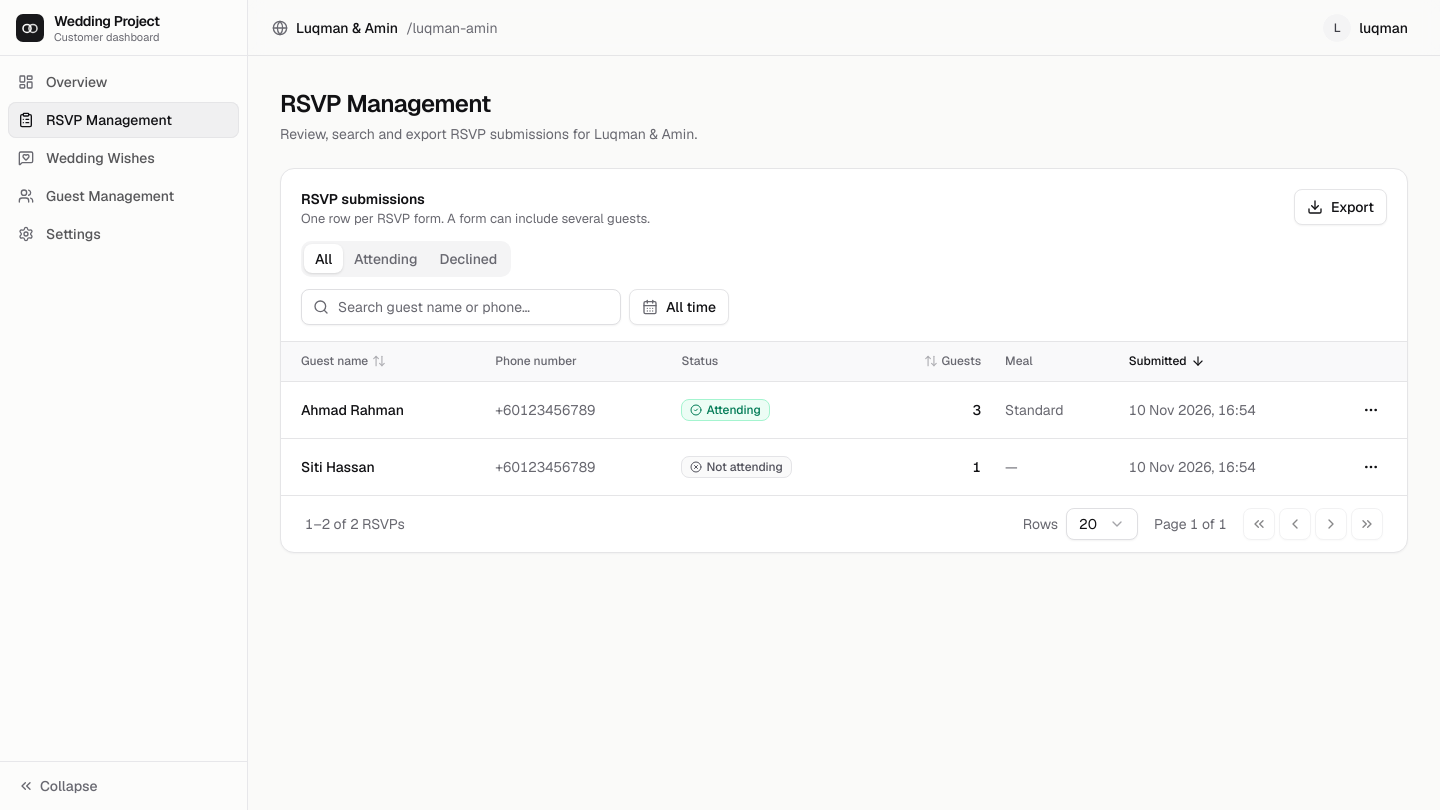
RSVP management › sorts by column and disables non-date sorts while a date range is active
Click the button "Guest name".
click(344, 361)  # box x1=295 y1=349 x2=392 y2=373
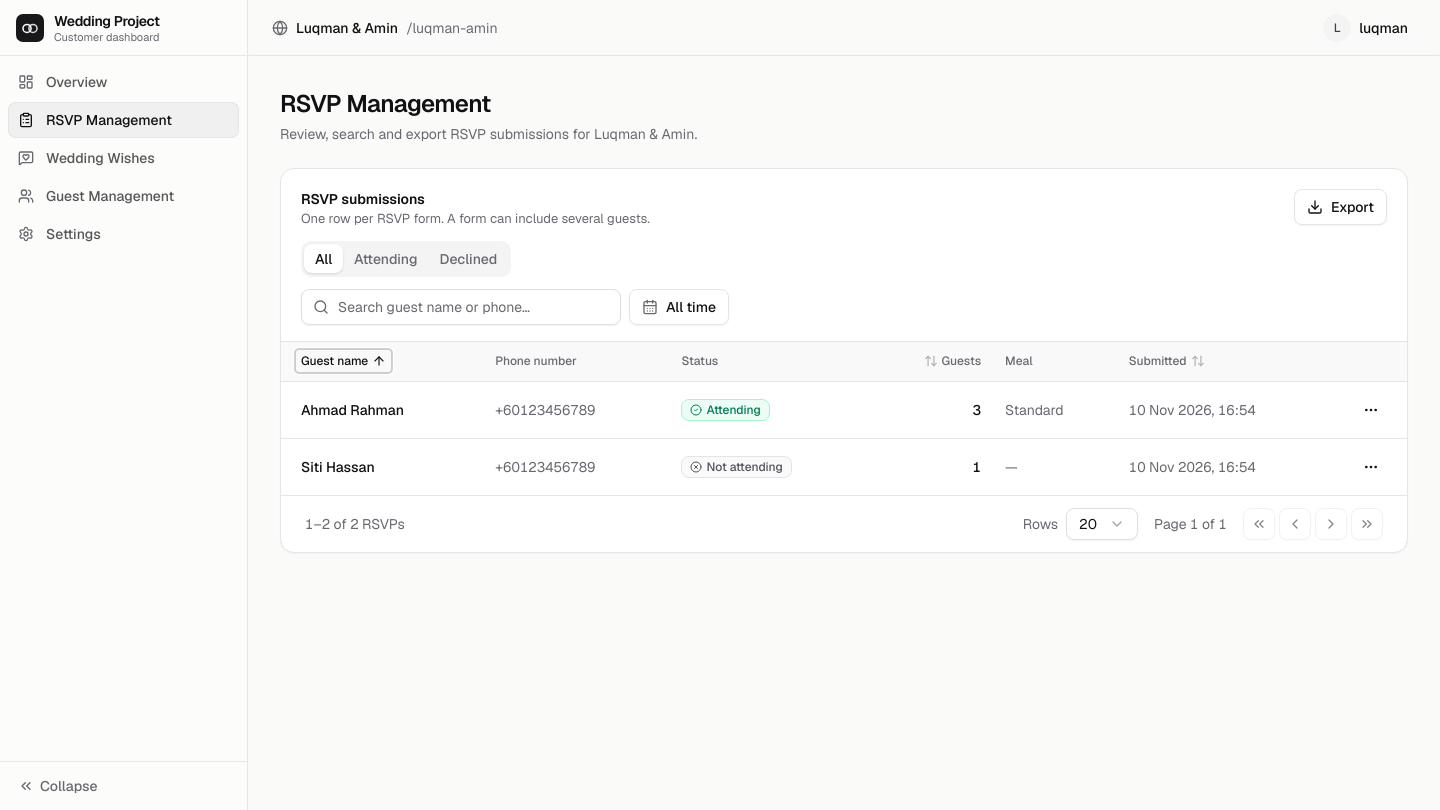
Click the button "All time".
click(679, 306)  # box x1=629 y1=288 x2=729 y2=324
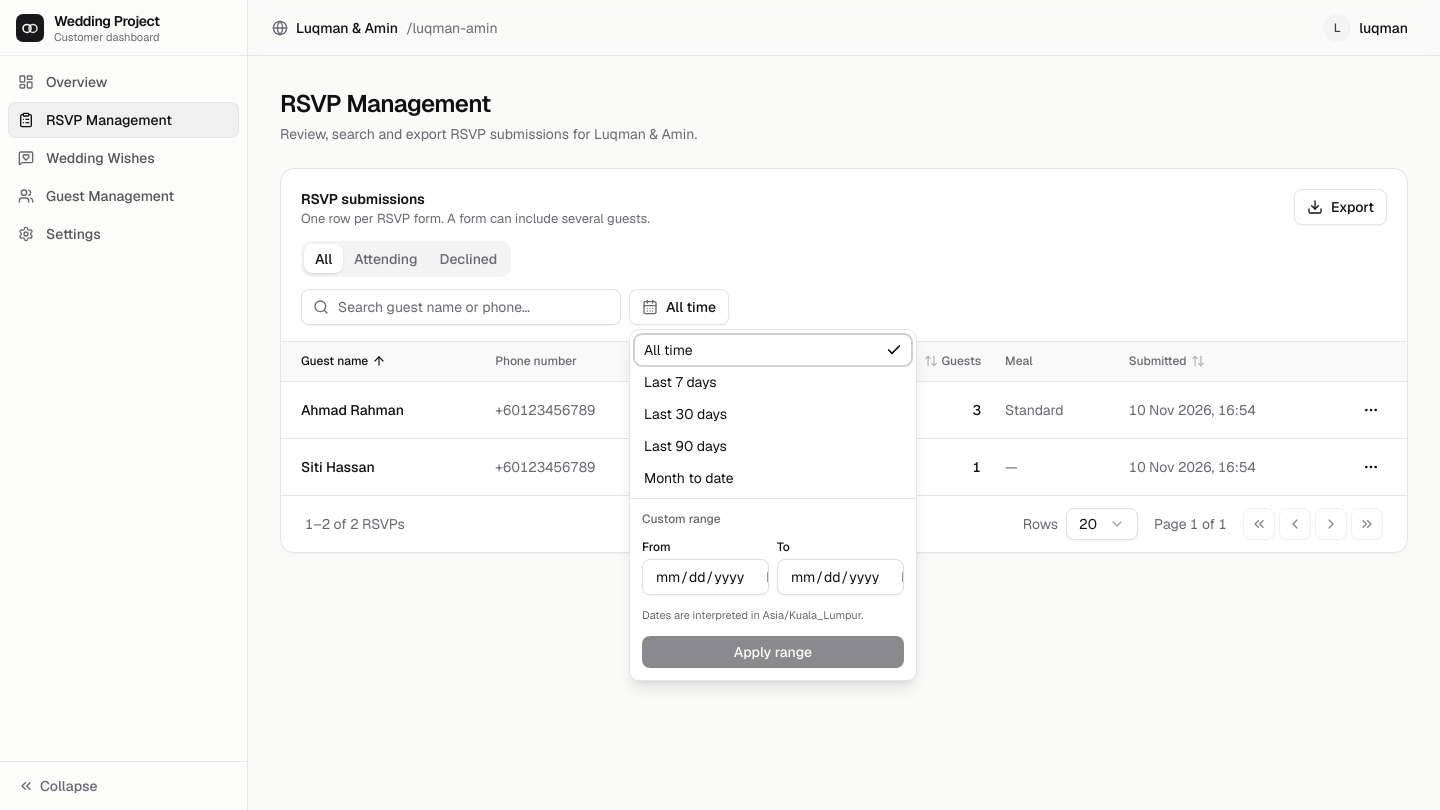
Click the button "Last 7 days".
click(680, 382)  # box x1=634 y1=366 x2=912 y2=398
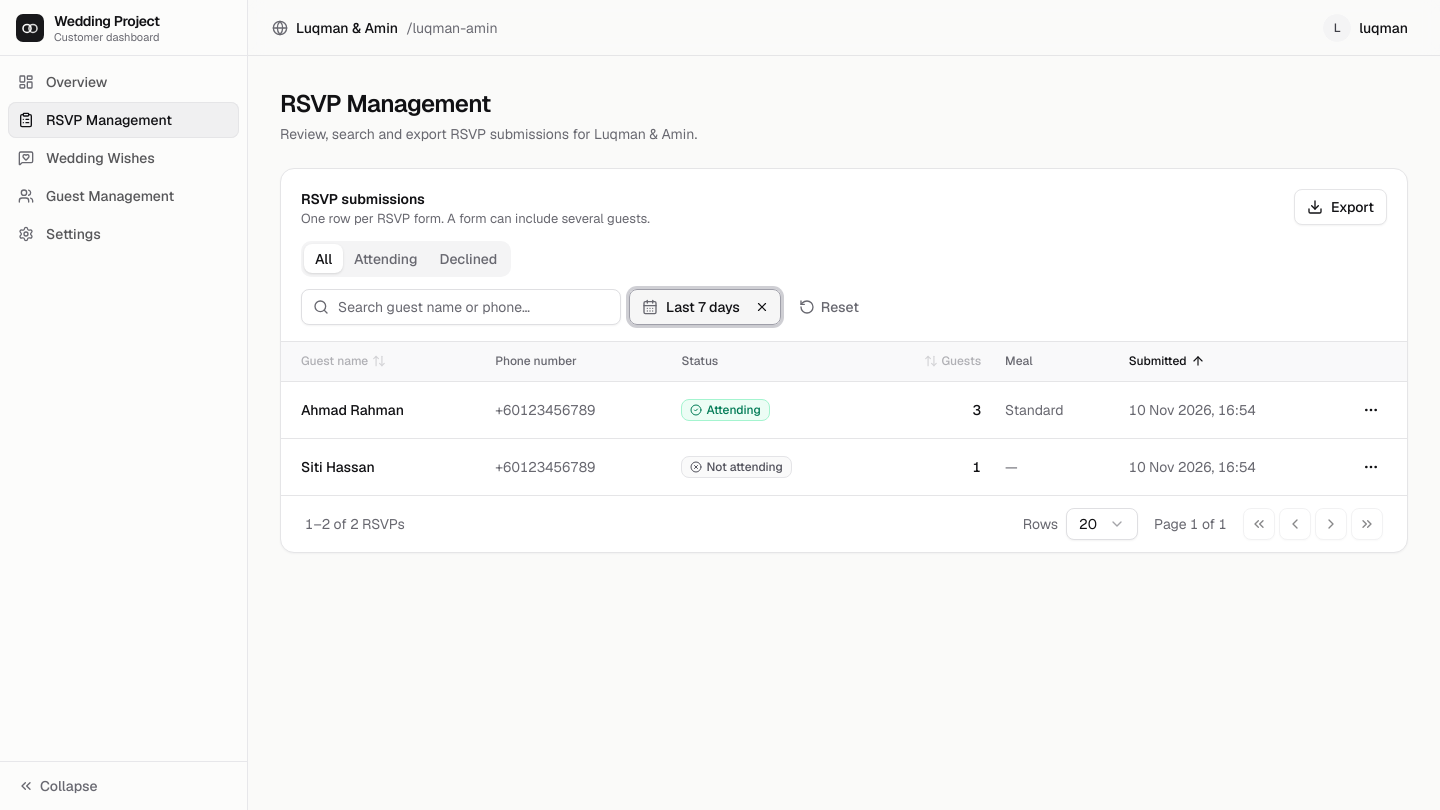
expect the button "Guest name" is disabled: met, box x1=295 y1=349 x2=392 y2=373
